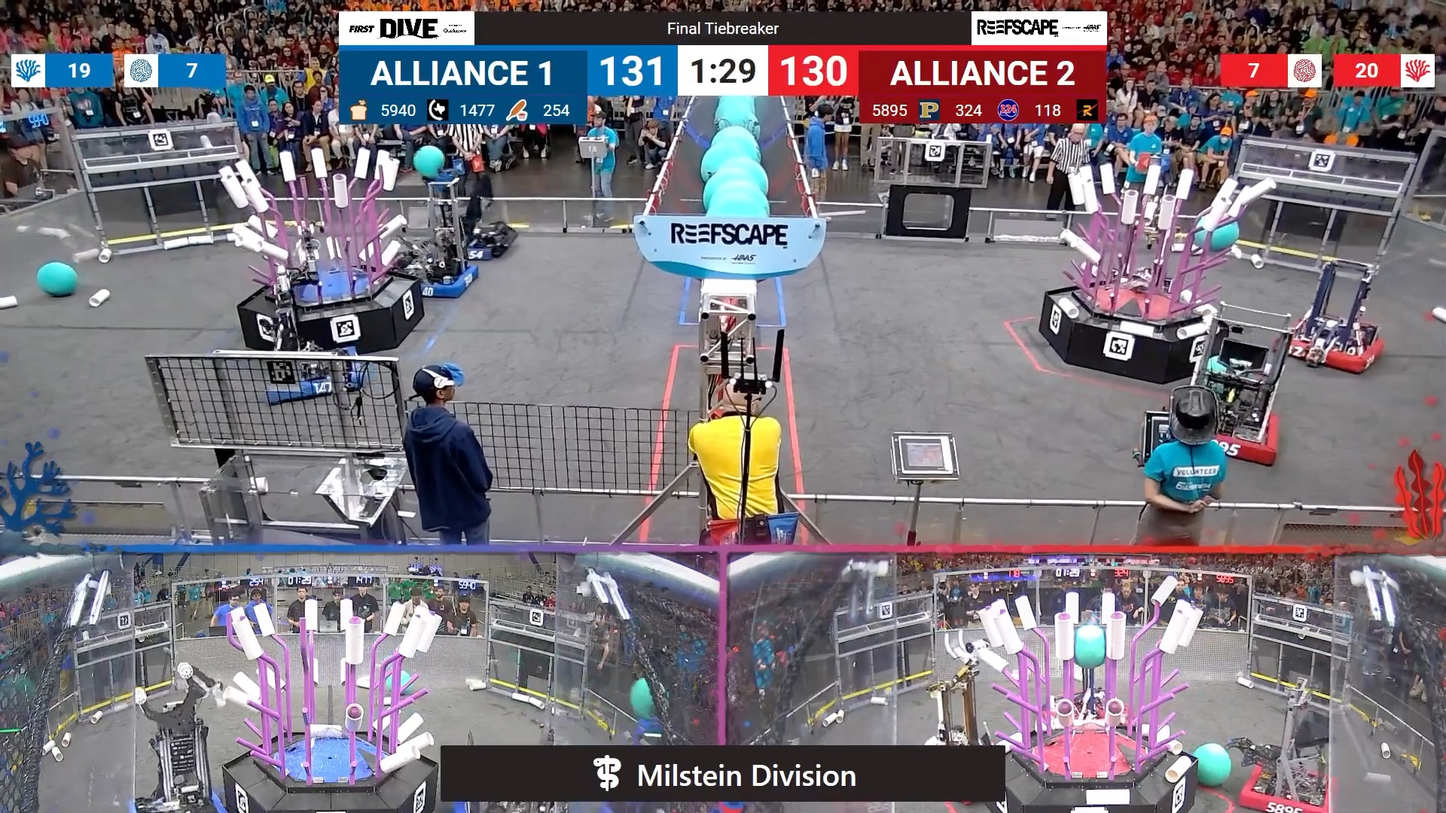bumpers: (1163, 395, 1296, 474), (1273, 317, 1392, 381), (242, 350, 349, 408), (1228, 761, 1341, 813), (393, 257, 488, 300), (121, 787, 230, 813)
